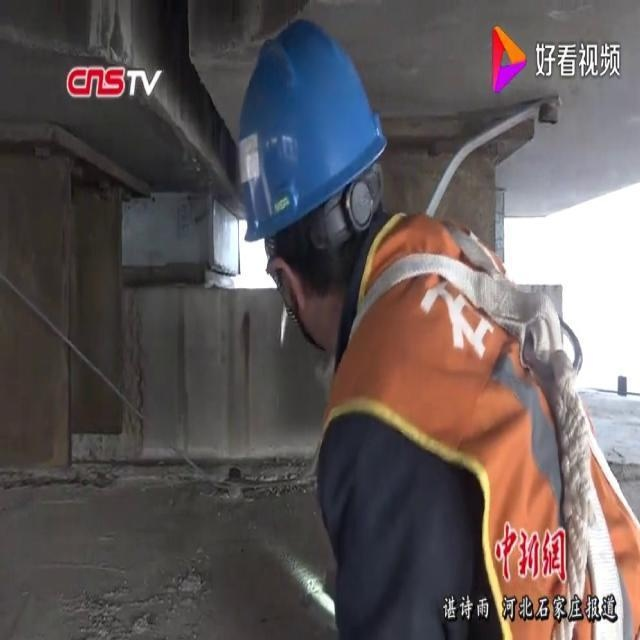Arnes_seguridad: (328, 201, 639, 636)
